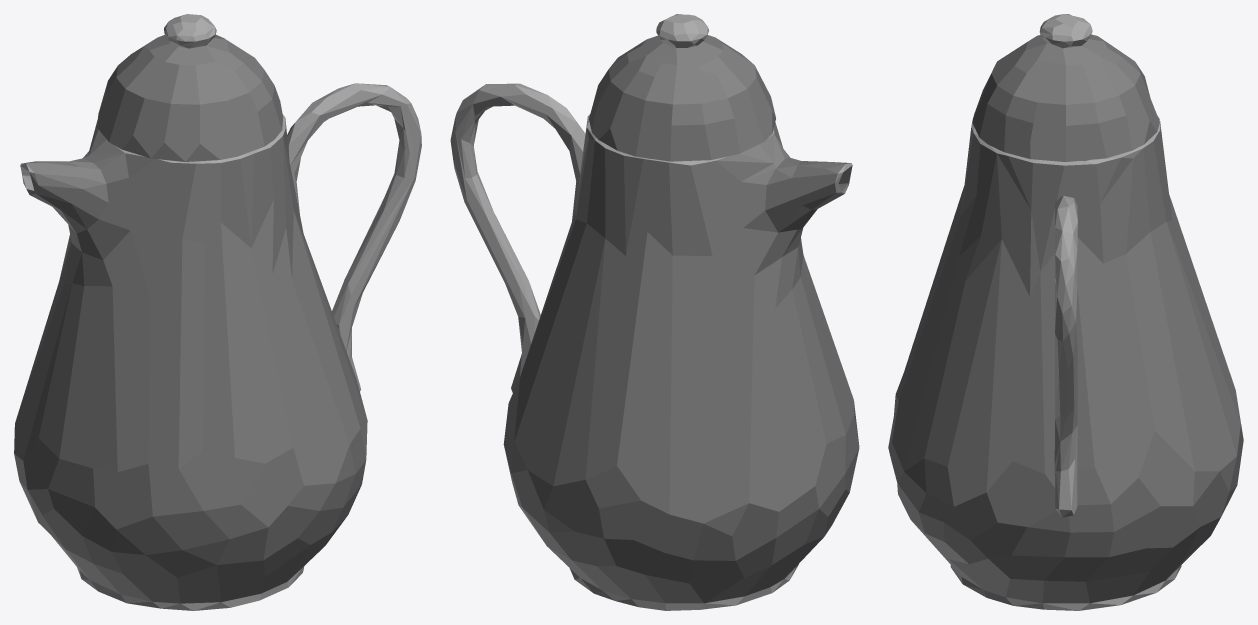
Rendered from TeapotMetal.fbx.
3 renders of one model, left to right at view 1: azimuth 30°, elevation 25°; view 2: azimuth 150°, elevation 25°; view 3: azimuth 270°, elevation 25°, orthographic.
Parts seen in each view (by area): view 1: TeapotLowPolyMetal, TeapotLidLowPolyMetal; view 2: TeapotLowPolyMetal, TeapotLidLowPolyMetal; view 3: TeapotLowPolyMetal, TeapotLidLowPolyMetal.
Part boxes in pixels (x1,y1,x2,y2): TeapotLowPolyMetal: [14, 83, 421, 610]; TeapotLidLowPolyMetal: [97, 14, 283, 161]; TeapotLowPolyMetal: [450, 83, 859, 610]; TeapotLidLowPolyMetal: [589, 14, 775, 161]; TeapotLowPolyMetal: [888, 115, 1243, 610]; TeapotLidLowPolyMetal: [972, 14, 1159, 161].
Bounding box in the file's own units: 16.78 × 22.07 × 13.07.
